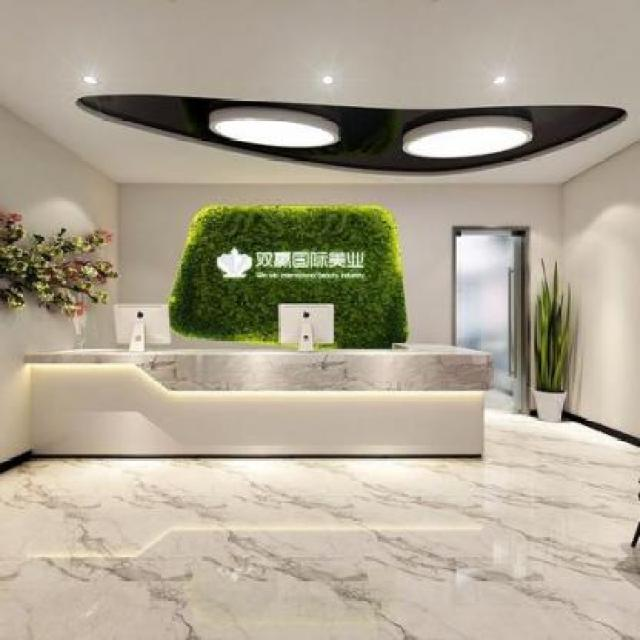frontdesk: (11, 329, 499, 473)
